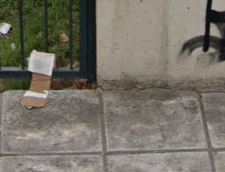trash: (15, 42, 60, 115)
